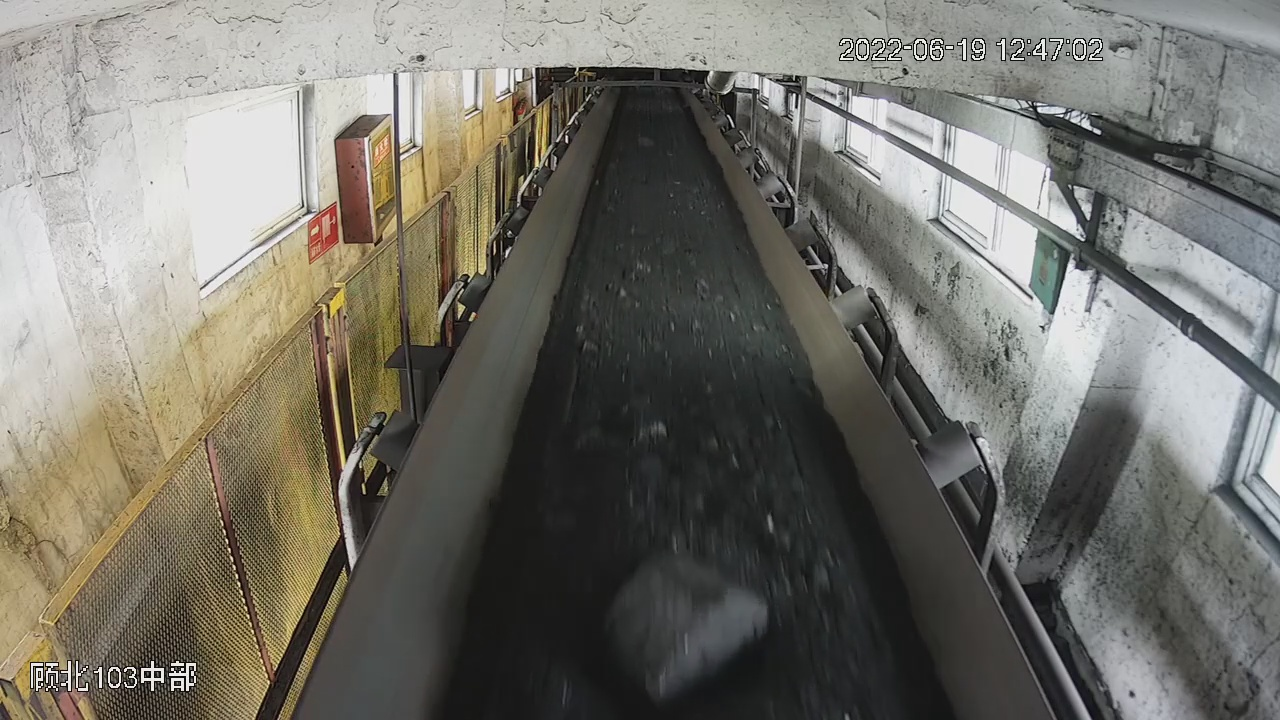gangue: (608, 551, 770, 694)
